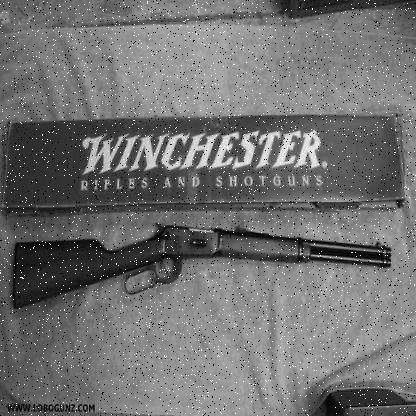rifle: (12, 203, 405, 329)
